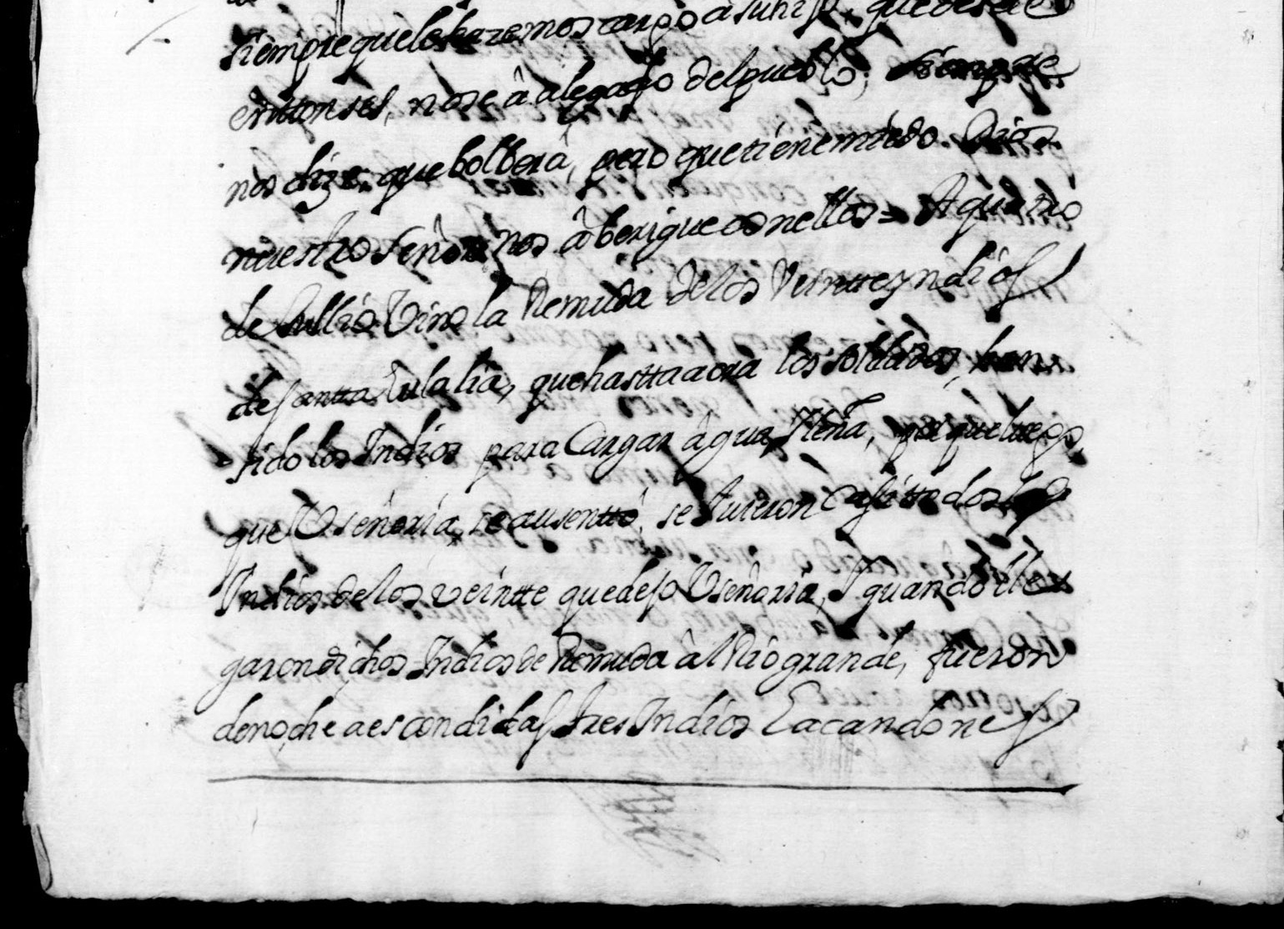lacandon: (761, 680, 1080, 769)
